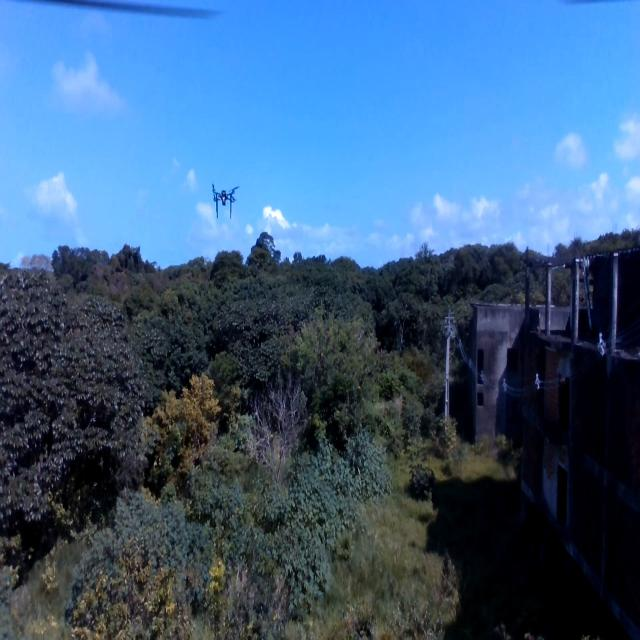-uav-: (202, 175, 248, 232)
